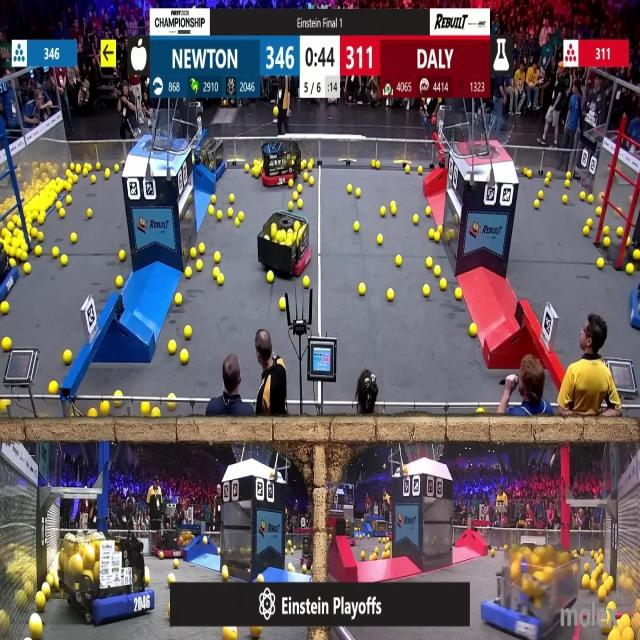ball_airborne: (224, 628, 236, 640), (274, 107, 279, 116)
ball_ground: (28, 616, 40, 640), (36, 594, 45, 611), (2, 338, 11, 352), (101, 401, 110, 415), (169, 341, 177, 355), (64, 350, 72, 364), (180, 350, 188, 364), (598, 588, 606, 602), (0, 304, 9, 316), (48, 382, 57, 394), (141, 404, 150, 416), (42, 585, 51, 597), (468, 323, 476, 336), (602, 622, 610, 635), (221, 566, 228, 580), (454, 288, 462, 300), (0, 399, 8, 411), (184, 325, 191, 338), (387, 288, 394, 301), (279, 299, 286, 312), (583, 574, 590, 587), (623, 631, 633, 640), (590, 582, 598, 593), (268, 272, 275, 284), (175, 292, 182, 304), (426, 256, 433, 268), (152, 409, 160, 419), (91, 410, 99, 420), (433, 267, 440, 278), (51, 247, 58, 258), (61, 254, 68, 265), (423, 284, 429, 296), (35, 246, 42, 256), (70, 234, 77, 244), (441, 280, 448, 290), (213, 252, 220, 262), (597, 258, 604, 268), (169, 400, 176, 410), (212, 269, 219, 279), (607, 601, 614, 611), (22, 252, 29, 262), (31, 230, 38, 240), (116, 277, 122, 288), (396, 255, 402, 266), (304, 277, 310, 288), (118, 250, 124, 261), (216, 210, 222, 221), (634, 249, 640, 260), (38, 212, 44, 223), (169, 574, 176, 583), (9, 247, 16, 256), (628, 266, 634, 276), (604, 238, 610, 248), (358, 284, 364, 294), (185, 269, 191, 279), (603, 225, 609, 235), (195, 262, 201, 272), (25, 265, 31, 275), (200, 244, 206, 254), (217, 276, 223, 286), (618, 228, 624, 238), (144, 574, 150, 584), (428, 231, 434, 241), (413, 214, 419, 224), (189, 248, 195, 258), (252, 168, 258, 178), (37, 234, 44, 242), (378, 235, 383, 246), (596, 207, 602, 216), (174, 559, 180, 568), (292, 190, 298, 199), (75, 166, 81, 175), (66, 182, 72, 191), (15, 249, 21, 258), (299, 162, 305, 171), (288, 202, 293, 212), (391, 206, 396, 216), (434, 233, 439, 243), (105, 170, 110, 180), (534, 200, 539, 210), (115, 390, 122, 397), (347, 184, 353, 192), (418, 167, 424, 175), (579, 191, 585, 199), (257, 574, 263, 582), (587, 218, 593, 226), (406, 165, 412, 173), (303, 566, 309, 574), (566, 172, 572, 180), (72, 175, 78, 183), (66, 170, 72, 178), (82, 168, 88, 176), (385, 552, 391, 560), (227, 209, 232, 218), (354, 221, 359, 230), (61, 209, 66, 218), (88, 209, 93, 218), (381, 207, 386, 216), (209, 207, 214, 216), (585, 226, 590, 235), (589, 193, 594, 202), (370, 161, 375, 170), (228, 196, 234, 203), (169, 392, 175, 399), (369, 555, 375, 562), (9, 259, 15, 266), (115, 399, 121, 406), (23, 244, 29, 251), (563, 194, 568, 202), (236, 218, 241, 226), (67, 197, 72, 205), (297, 184, 302, 192), (288, 564, 293, 572), (565, 182, 570, 190), (527, 170, 532, 178), (360, 553, 365, 561), (627, 238, 632, 246), (376, 162, 381, 170), (426, 207, 430, 216), (356, 187, 360, 196), (243, 163, 247, 172), (524, 168, 528, 177), (586, 563, 590, 572), (403, 464, 407, 473), (92, 176, 97, 183), (114, 166, 119, 173), (307, 180, 312, 187), (436, 224, 441, 231), (212, 194, 216, 202), (538, 190, 542, 198), (297, 201, 301, 209), (544, 178, 548, 186), (97, 164, 101, 172), (240, 212, 244, 220), (307, 161, 311, 169), (492, 550, 496, 558), (288, 180, 292, 188), (58, 202, 62, 210), (161, 552, 165, 560), (217, 546, 221, 554), (546, 172, 550, 179), (580, 550, 584, 557), (204, 537, 208, 544)
goal: (460, 118, 516, 158), (129, 116, 187, 152)
robot_blue: (480, 544, 577, 636), (64, 532, 154, 624), (194, 137, 226, 181), (0, 250, 17, 302), (370, 520, 392, 540)
robot_red: (258, 211, 312, 278), (260, 139, 302, 188), (151, 526, 189, 556)
